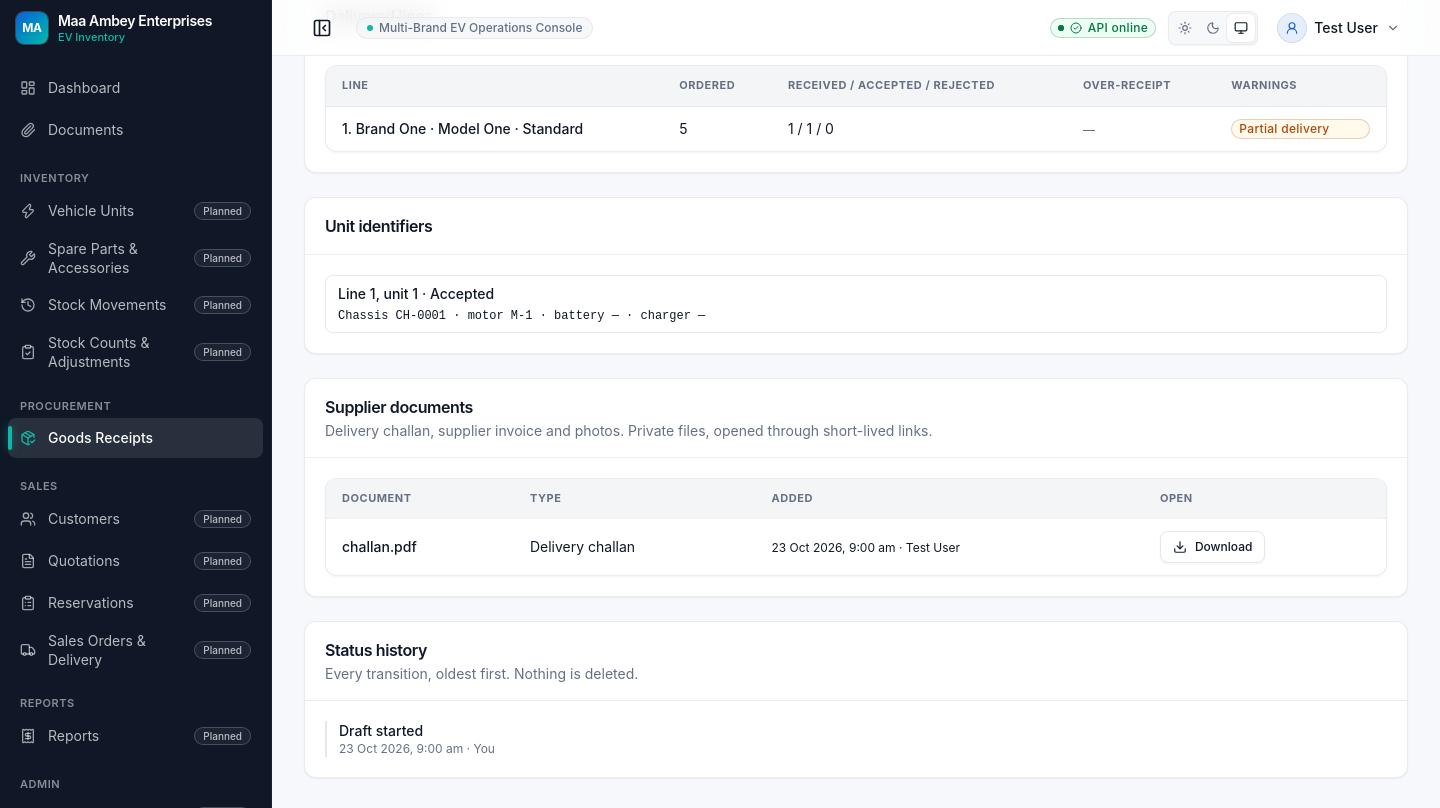
goods receipt read-only and documents › reports a refused download
The image size is (1440, 808).
(page scrolled)
Click the button with aria-label "Download challan.pdf" at coordinates (1213, 548), box [1160,532,1265,564]
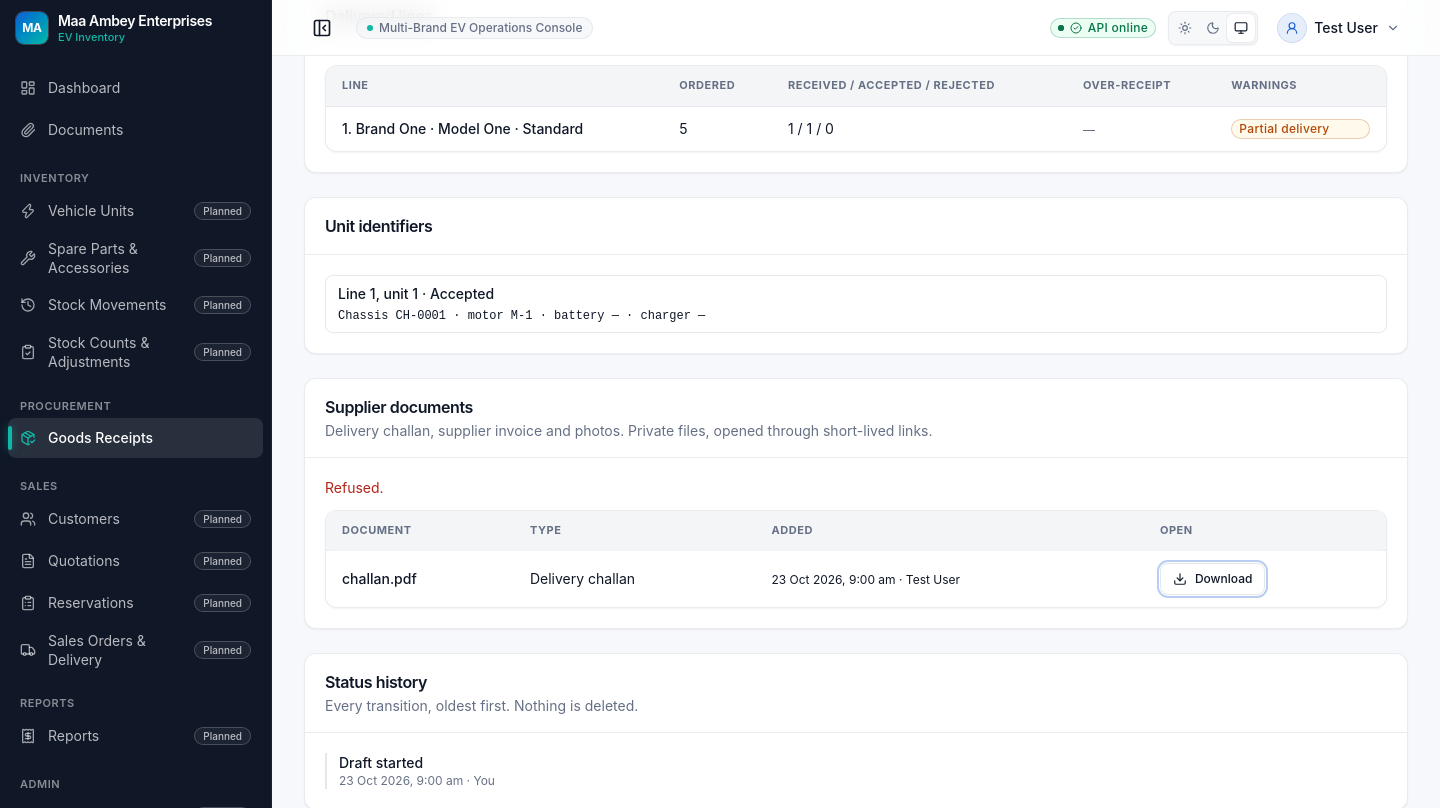
Expected: the message "Refused." is shown, [325,479,384,496]
